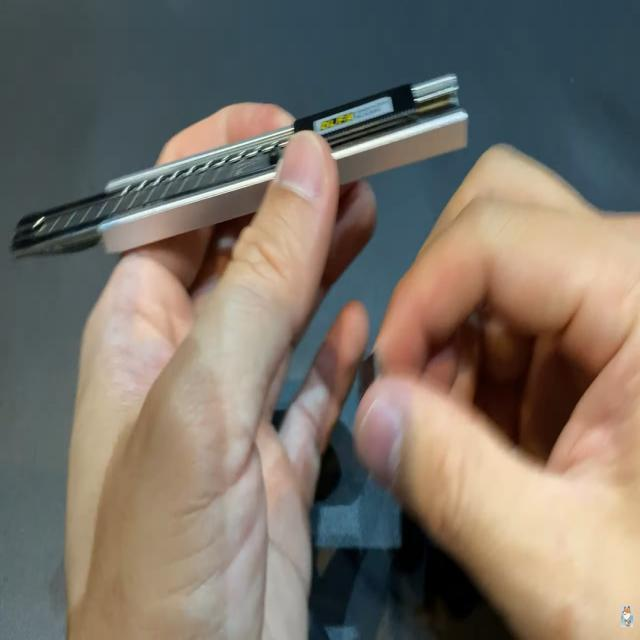cutter: (0, 51, 533, 325)
